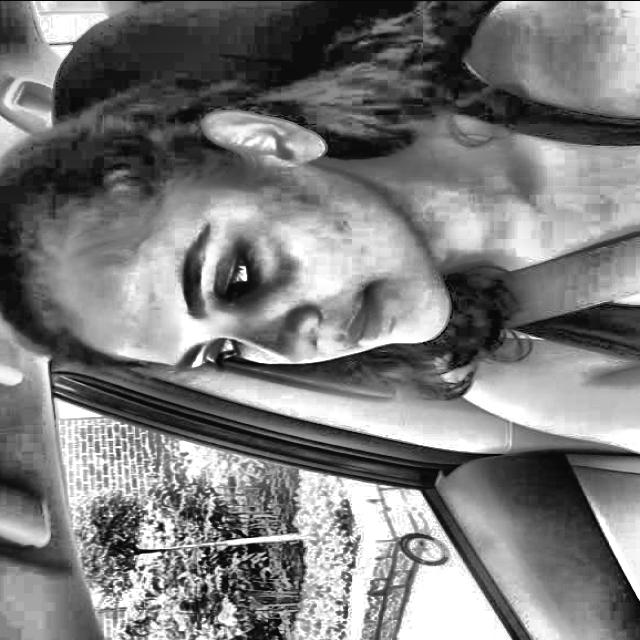closed_mouth: (334, 263, 406, 371)
open_eyes: (206, 237, 267, 308), (195, 329, 252, 381)
